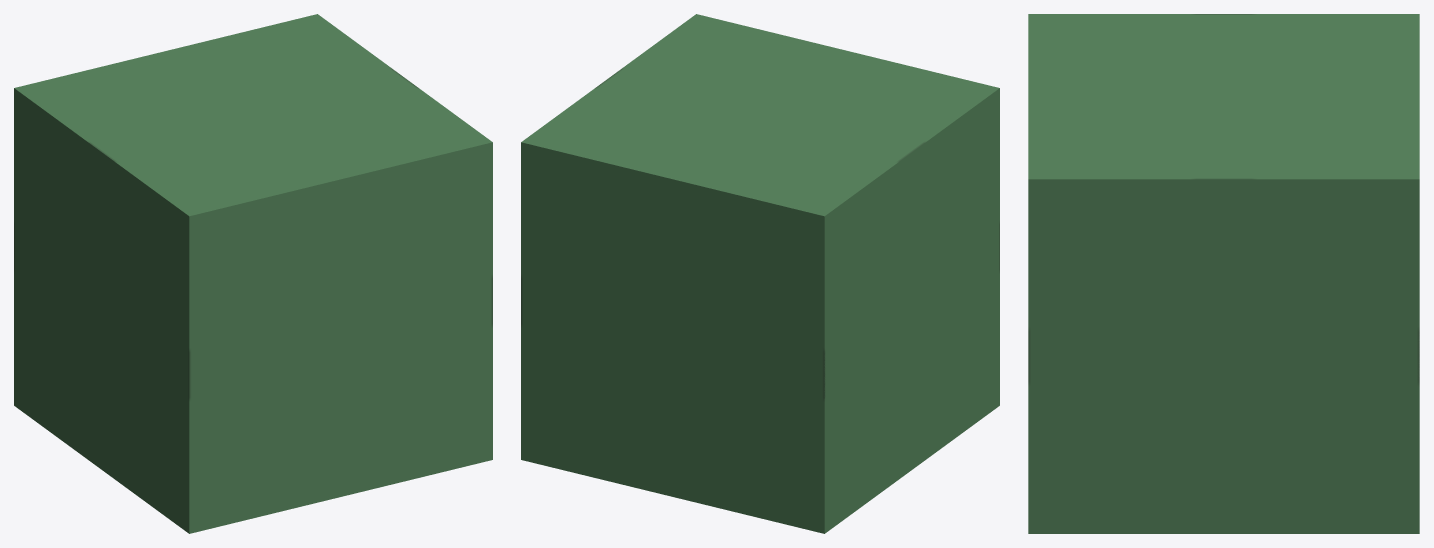
The model's file is straightTrack.obj.
3 renders of one model, left to right at view 1: azimuth 30°, elevation 25°; view 2: azimuth 150°, elevation 25°; view 3: azimuth 270°, elevation 25°, orthographic. The views are drawn at different scales.
Parts seen in each view (by area): view 1: generalCube, off; view 2: generalCube, off; view 3: generalCube, off.
Boxes of the visible parts, <box> form: generalCube: <box>14,14,492,533</box>; off: <box>14,14,326,412</box>; generalCube: <box>521,14,999,533</box>; off: <box>522,134,835,531</box>; generalCube: <box>1028,14,1419,533</box>; off: <box>1395,14,1419,533</box>.
Size of the model in its own units: 1 by 1 by 1.
2 materials, 1 textured.
